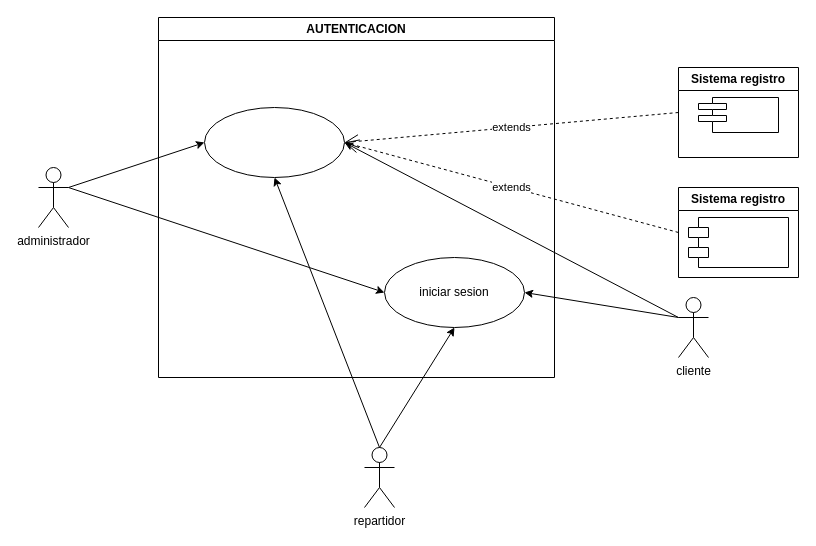
The diagram is 816 pixels wide and 546 high, and some of its shapes have lost their labels. Here are the shapes that lost their labels. From the top down, the centre of each, then its label:
pixel 738 114: API GOOGLE
pixel 274 142: registrarse
pixel 738 242: API FACEBOOK
